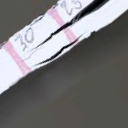crackTip: (22, 1, 119, 66)
